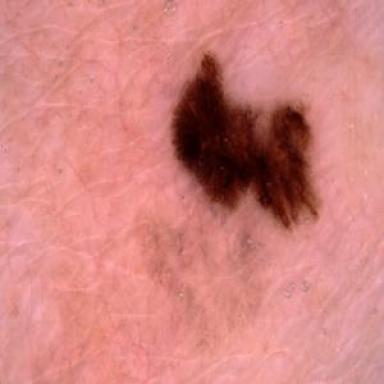Melanoma: (170, 53, 318, 232)
